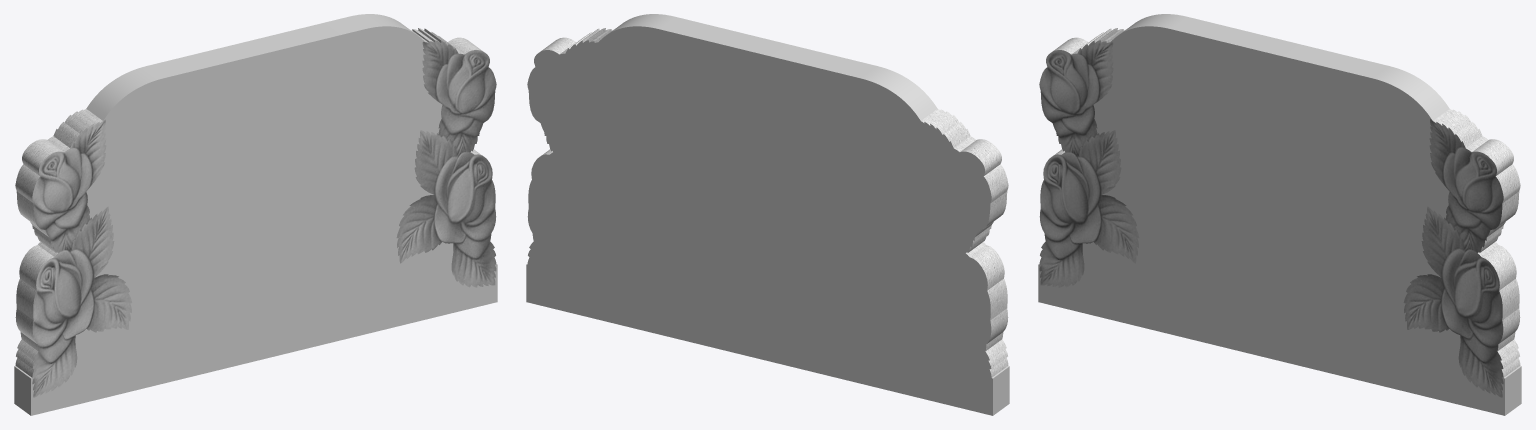
The model's file is cn98893ce8b4_tkf.glb.
The picture shows the model from 3 angles, left to right: view 1: azimuth 30°, elevation 25°; view 2: azimuth 150°, elevation 25°; view 3: azimuth 330°, elevation 25°; orthographic projection.
Parts seen in each view (by area): view 1: Pam-d02-118, Pam-d02-118_2_notexture; view 2: Pam-d02-118, Pam-d02-118_2_notexture; view 3: Pam-d02-118, Pam-d02-118_2_notexture.
Boxes of the visible parts, bbox=[...] form: Pam-d02-118: bbox=[14, 14, 497, 415]; Pam-d02-118_2_notexture: bbox=[15, 28, 496, 397]; Pam-d02-118: bbox=[526, 14, 1009, 415]; Pam-d02-118_2_notexture: bbox=[540, 28, 1008, 377]; Pam-d02-118: bbox=[1038, 14, 1521, 415]; Pam-d02-118_2_notexture: bbox=[1039, 28, 1520, 397].
Size of the model in its own units: 0.8 by 0.5 by 0.05.
1 material, 1 textured.
